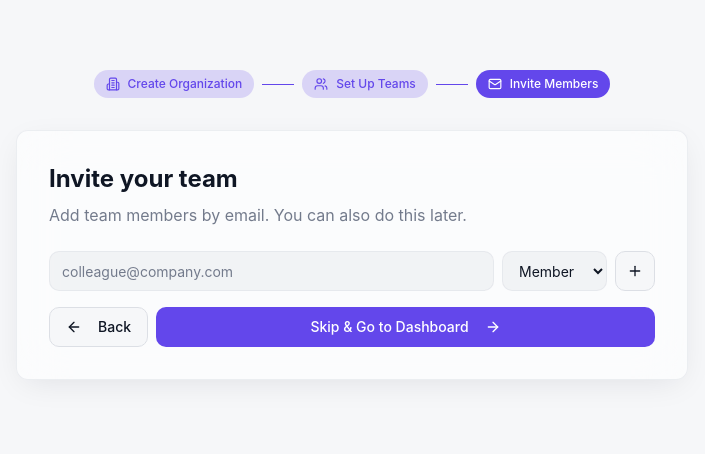
Onboarding › can add invite entries with email and role
Earlier steps of the test are not shown.
Expected: the heading "Invite your team" is shown, [49,164,238,193]
Type "bob@company.com" into the field with placeholder "colleague@company.com".
click(272, 271); type("bob@company.com")  # box [49,251,494,291]
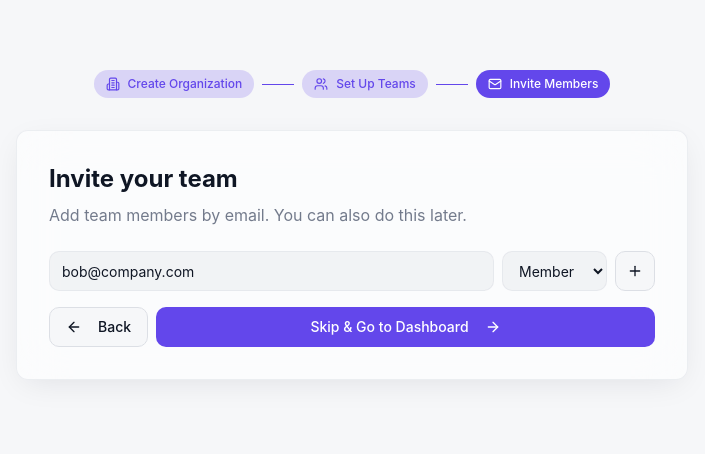
Press Enter in the field with placeholder "colleague@company.com", box [49,251,494,291]
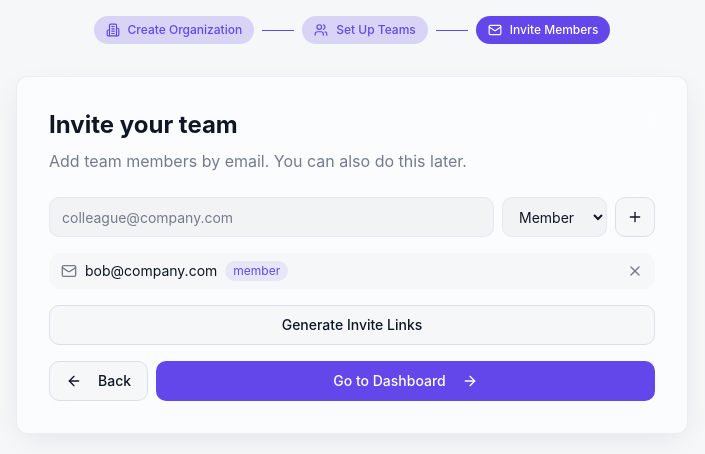
Expected: the text "bob@company.com" is shown, [85,261,217,281]
Expected: the text "member" is shown, [225,261,288,281]
